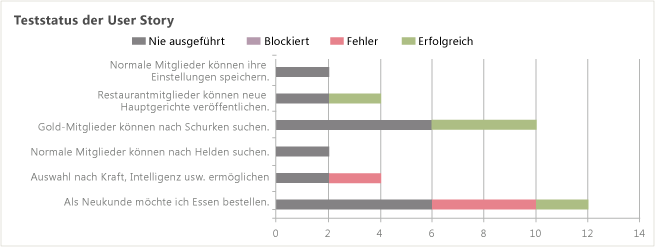canvas: (281, 59, 635, 213)
legend: (121, 34, 477, 50)
title: (8, 12, 177, 30)
x-axis: (265, 215, 644, 225)
x-labels: (269, 227, 649, 246)
y-axis: (268, 51, 279, 219)
y-labels: (27, 52, 268, 214)
